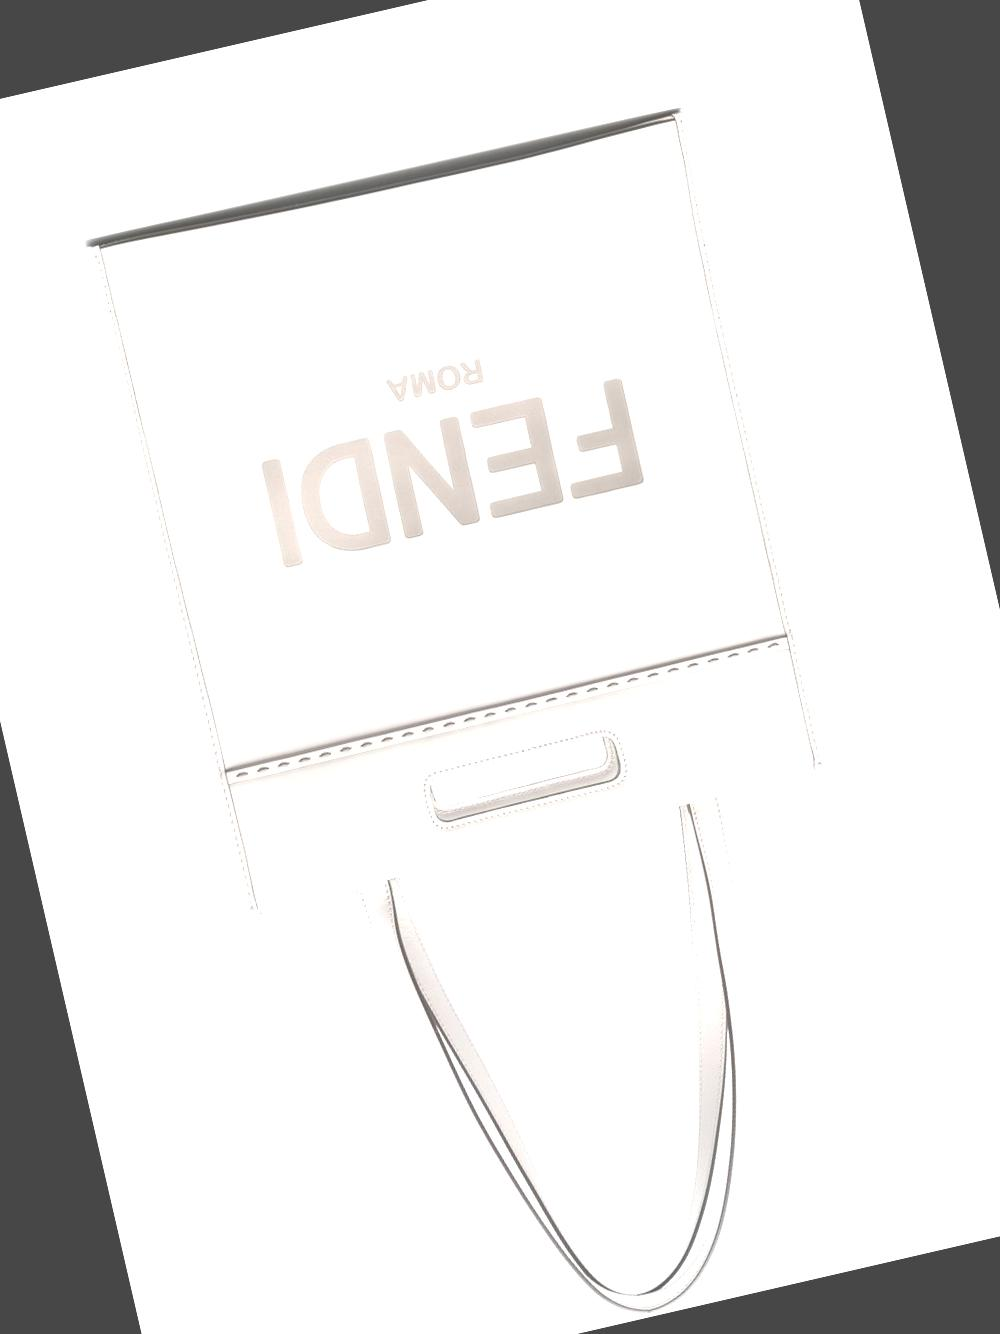FENDI: (258, 376, 645, 567)
